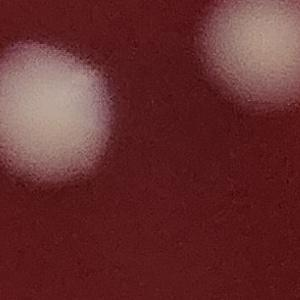colony: (0, 39, 119, 191), (194, 0, 300, 120)
